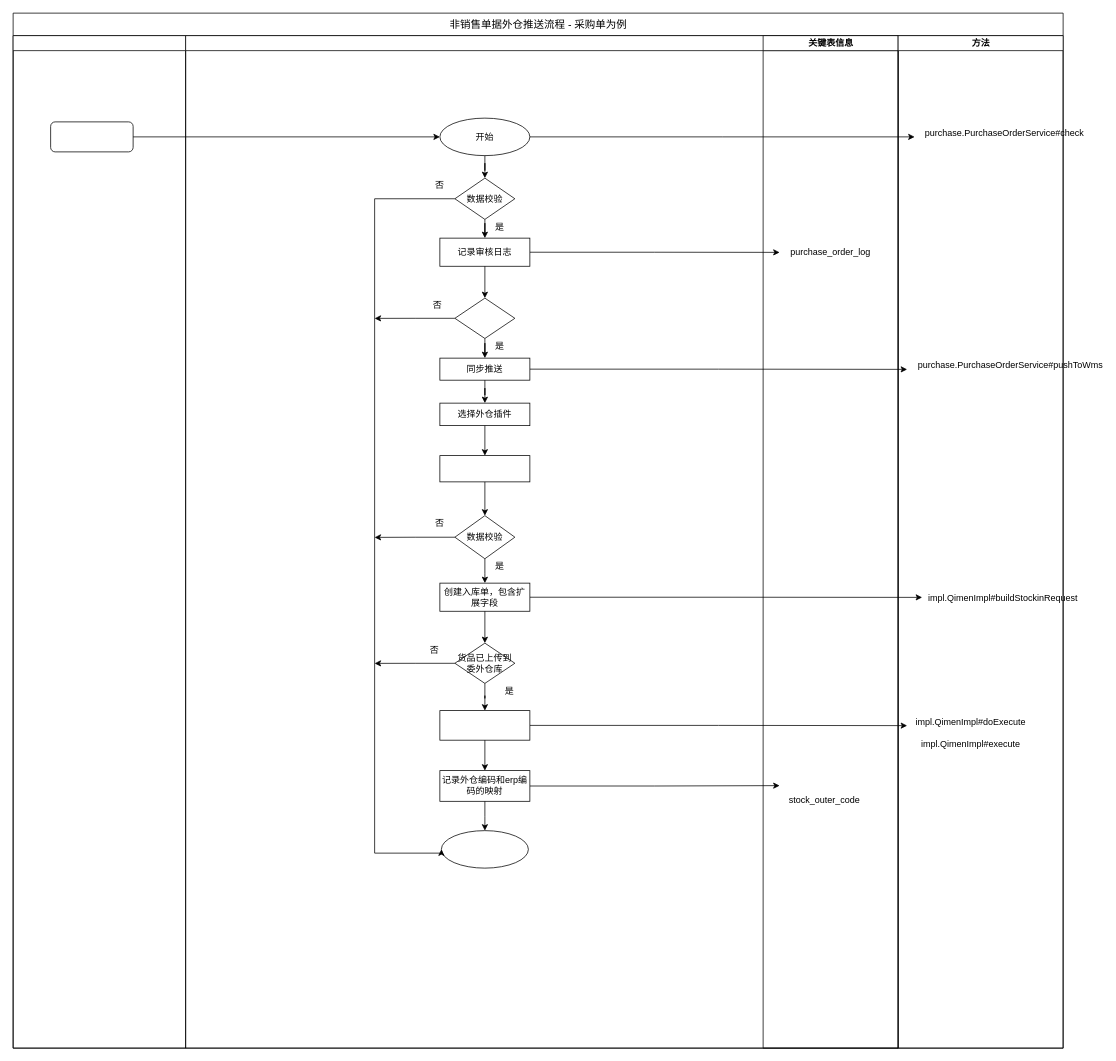
Image size: 1116x1061. Some labels were removed from this diagram. The box of each missing label's shape, as (x1, y1, x2, y2) in pixels:
发送请求: (439, 710, 530, 740)
委外仓: (454, 297, 515, 338)
根据仓库选择奇门Api: (439, 455, 530, 482)
结束: (441, 830, 528, 868)
输入: (12, 35, 186, 1048)
采购单审核，采购单界面右键向wms提送: (50, 121, 133, 152)
